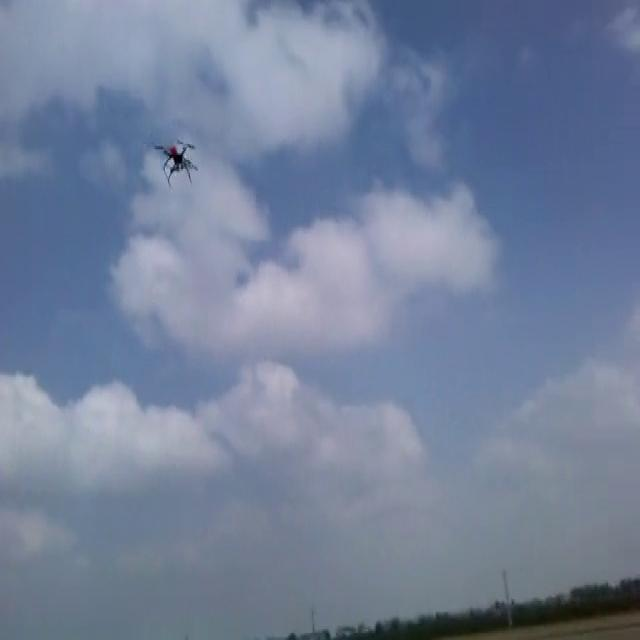drone: (151, 135, 198, 190)
